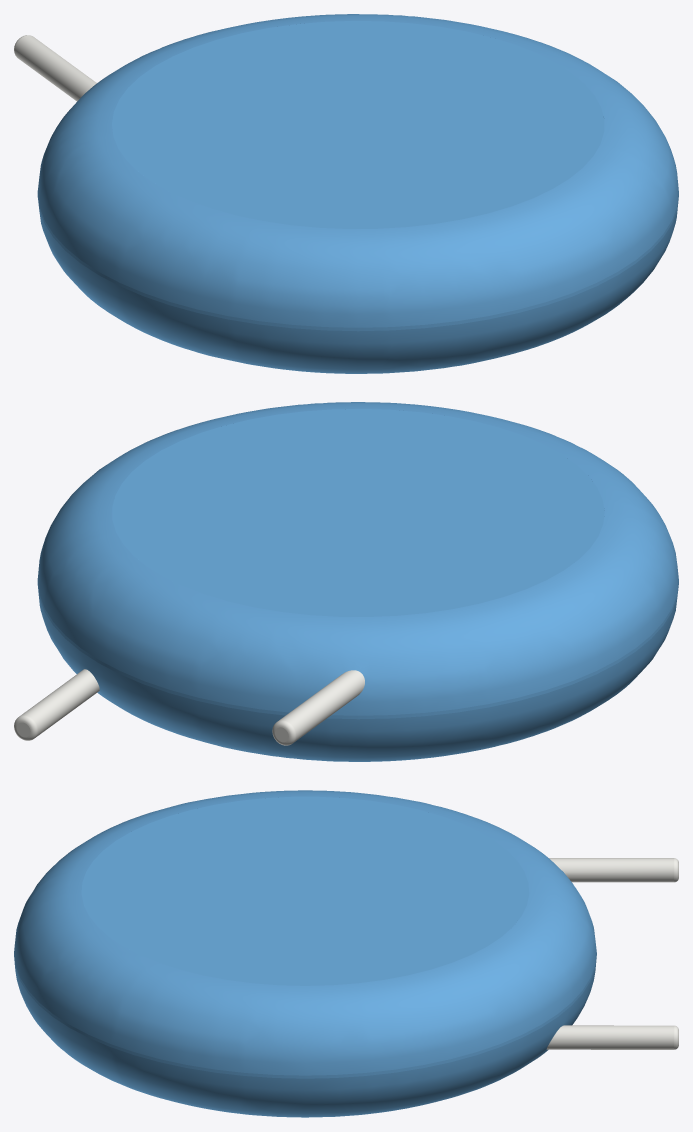
File: RV_Disc_D21.5mm_W5.1mm_P10mm.glb
3 views of the same model, one above another, from view 1: azimuth 30°, elevation 25°; view 2: azimuth 150°, elevation 25°; view 3: azimuth 270°, elevation 25° (orthographic). The views are drawn at different scales.
Visible parts, largest first — view 1: Shape_IndexedFaceSet.003, Shape_IndexedFaceSet.001, Shape_IndexedFaceSet.002, Shape_IndexedFaceSet, Shape_IndexedFaceSet.004; view 2: Shape_IndexedFaceSet.003, Shape_IndexedFaceSet.001, Shape_IndexedFaceSet.002, Shape_IndexedFaceSet, Shape_IndexedFaceSet.004, Shape_IndexedFaceSet.006; view 3: Shape_IndexedFaceSet.003, Shape_IndexedFaceSet.001, Shape_IndexedFaceSet.002, Shape_IndexedFaceSet.006, Shape_IndexedFaceSet.004, Shape_IndexedFaceSet.
Part boxes in pixels (box(x1,y1,x2,y2)): Shape_IndexedFaceSet.003: box(112, 21, 604, 228); Shape_IndexedFaceSet.001: box(37, 14, 678, 327); Shape_IndexedFaceSet.002: box(38, 200, 678, 373); Shape_IndexedFaceSet: box(37, 194, 678, 331); Shape_IndexedFaceSet.004: box(14, 35, 96, 101); Shape_IndexedFaceSet.003: box(112, 409, 604, 616); Shape_IndexedFaceSet.001: box(37, 402, 678, 715); Shape_IndexedFaceSet.002: box(38, 588, 678, 761); Shape_IndexedFaceSet: box(37, 582, 678, 719); Shape_IndexedFaceSet.004: box(279, 670, 364, 742); Shape_IndexedFaceSet.006: box(19, 669, 99, 737); Shape_IndexedFaceSet.003: box(81, 796, 529, 985); Shape_IndexedFaceSet.001: box(14, 790, 596, 1075); Shape_IndexedFaceSet.002: box(14, 958, 596, 1117); Shape_IndexedFaceSet.006: box(546, 1025, 673, 1049); Shape_IndexedFaceSet.004: box(549, 858, 673, 882); Shape_IndexedFaceSet: box(14, 953, 596, 1078).
Size of the model in its own units: 8.47 by 2.01 by 9.66.
